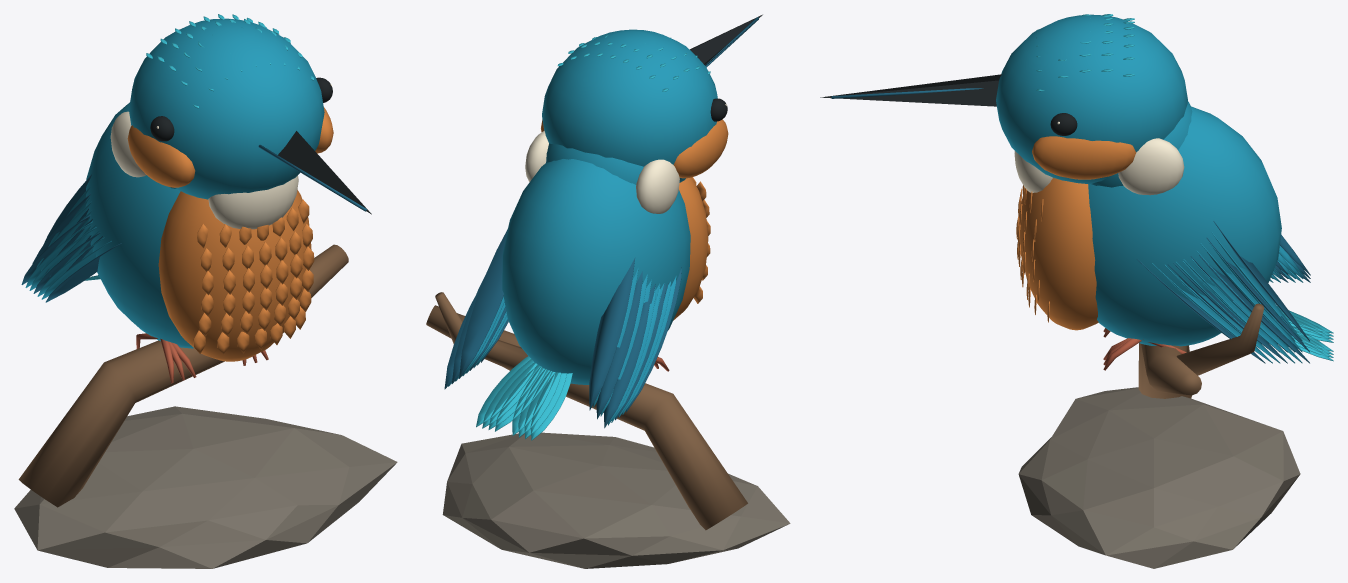
Rendered from KingfisherMount.fbx.
3 views of the same model, side by side, from view 1: azimuth 30°, elevation 25°; view 2: azimuth 150°, elevation 25°; view 3: azimuth 270°, elevation 25° (orthographic). The views are drawn at different scales.
Visible parts, largest first — view 1: KingfisherMount_MineralMatrix, KingfisherMount_KingfisherBlue, KingfisherMount_KingfisherBreast, KingfisherMount_NaturalBranch, KingfisherMount_WarmIvory, KingfisherMount_KingfisherWing, KingfisherMount_EyeAndBill, KingfisherMount_BirdFeet, KingfisherMount_KingfisherAzure; view 2: KingfisherMount_KingfisherBlue, KingfisherMount_MineralMatrix, KingfisherMount_KingfisherWing, KingfisherMount_NaturalBranch, KingfisherMount_KingfisherAzure, KingfisherMount_KingfisherBreast, KingfisherMount_WarmIvory, KingfisherMount_EyeAndBill; view 3: KingfisherMount_KingfisherBlue, KingfisherMount_MineralMatrix, KingfisherMount_KingfisherBreast, KingfisherMount_NaturalBranch, KingfisherMount_KingfisherWing, KingfisherMount_WarmIvory, KingfisherMount_EyeAndBill, KingfisherMount_KingfisherAzure.
Boxes of the visible parts, x1=… form: KingfisherMount_MineralMatrix: x1=14, y1=406, x2=397, y2=568; KingfisherMount_KingfisherBlue: x1=25, y1=18, x2=324, y2=348; KingfisherMount_KingfisherBreast: x1=127, y1=107, x2=333, y2=361; KingfisherMount_NaturalBranch: x1=18, y1=244, x2=348, y2=507; KingfisherMount_WarmIvory: x1=110, y1=84, x2=331, y2=229; KingfisherMount_KingfisherWing: x1=21, y1=145, x2=367, y2=302; KingfisherMount_EyeAndBill: x1=150, y1=77, x2=371, y2=214; KingfisherMount_BirdFeet: x1=136, y1=333, x2=268, y2=383; KingfisherMount_KingfisherAzure: x1=84, y1=14, x2=313, y2=280; KingfisherMount_KingfisherBlue: x1=448, y1=29, x2=717, y2=425; KingfisherMount_MineralMatrix: x1=442, y1=432, x2=790, y2=568; KingfisherMount_KingfisherWing: x1=444, y1=17, x2=758, y2=428; KingfisherMount_NaturalBranch: x1=426, y1=292, x2=747, y2=530; KingfisherMount_KingfisherAzure: x1=476, y1=34, x2=710, y2=440; KingfisherMount_KingfisherBreast: x1=541, y1=119, x2=728, y2=320; KingfisherMount_WarmIvory: x1=525, y1=104, x2=726, y2=213; KingfisherMount_EyeAndBill: x1=690, y1=14, x2=762, y2=121; KingfisherMount_KingfisherBlue: x1=996, y1=14, x2=1303, y2=363; KingfisherMount_MineralMatrix: x1=1018, y1=387, x2=1300, y2=568; KingfisherMount_KingfisherBreast: x1=1016, y1=136, x2=1136, y2=330; KingfisherMount_NaturalBranch: x1=1138, y1=303, x2=1264, y2=398; KingfisherMount_KingfisherWing: x1=831, y1=88, x2=1310, y2=363; KingfisherMount_WarmIvory: x1=1014, y1=121, x2=1184, y2=195; KingfisherMount_EyeAndBill: x1=820, y1=74, x2=1077, y2=135; KingfisherMount_KingfisherAzure: x1=1036, y1=14, x2=1333, y2=361.
Bounding box in the file's own units: 0.722 × 1 × 0.9543.
